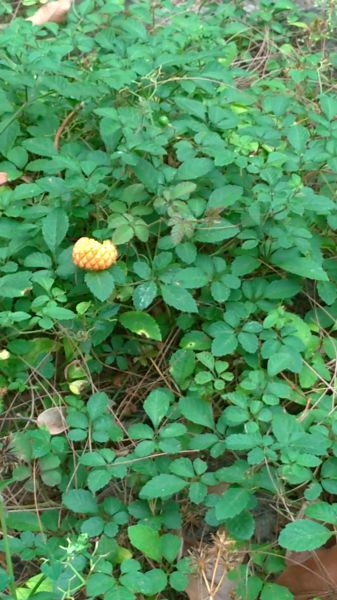eggs: (70, 233, 122, 274)
